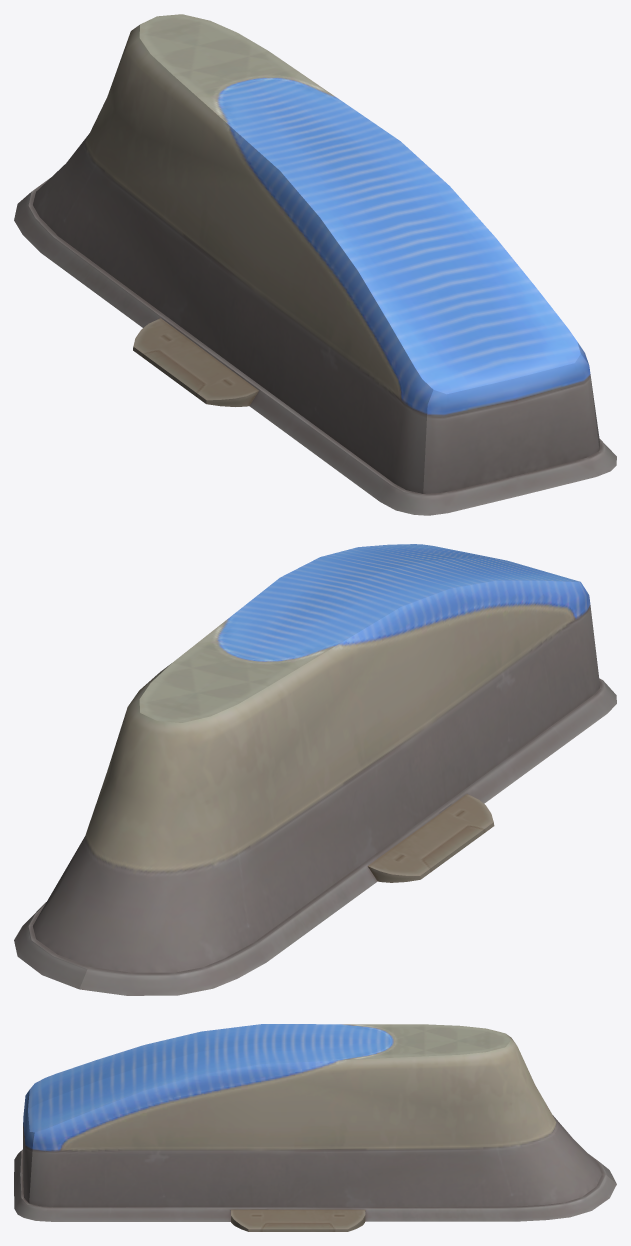
The model's file is pref_sm_beach_techobstacle06_lv3.fbx.
3 renders of one model, top to bottom at view 1: azimuth 30°, elevation 25°; view 2: azimuth 150°, elevation 25°; view 3: azimuth 270°, elevation 25°, orthographic. The views are drawn at different scales.
Visible parts, largest first — view 1: pref_sm_beach_techobstacle06_lv3; view 2: pref_sm_beach_techobstacle06_lv3; view 3: pref_sm_beach_techobstacle06_lv3.
Boxes of the visible parts, x1,y1,x2,y2 form: pref_sm_beach_techobstacle06_lv3: (14, 14, 616, 515); pref_sm_beach_techobstacle06_lv3: (14, 544, 616, 995); pref_sm_beach_techobstacle06_lv3: (14, 1024, 616, 1231).
Size of the model in its own units: 2.58 by 1.81 by 6.87.
